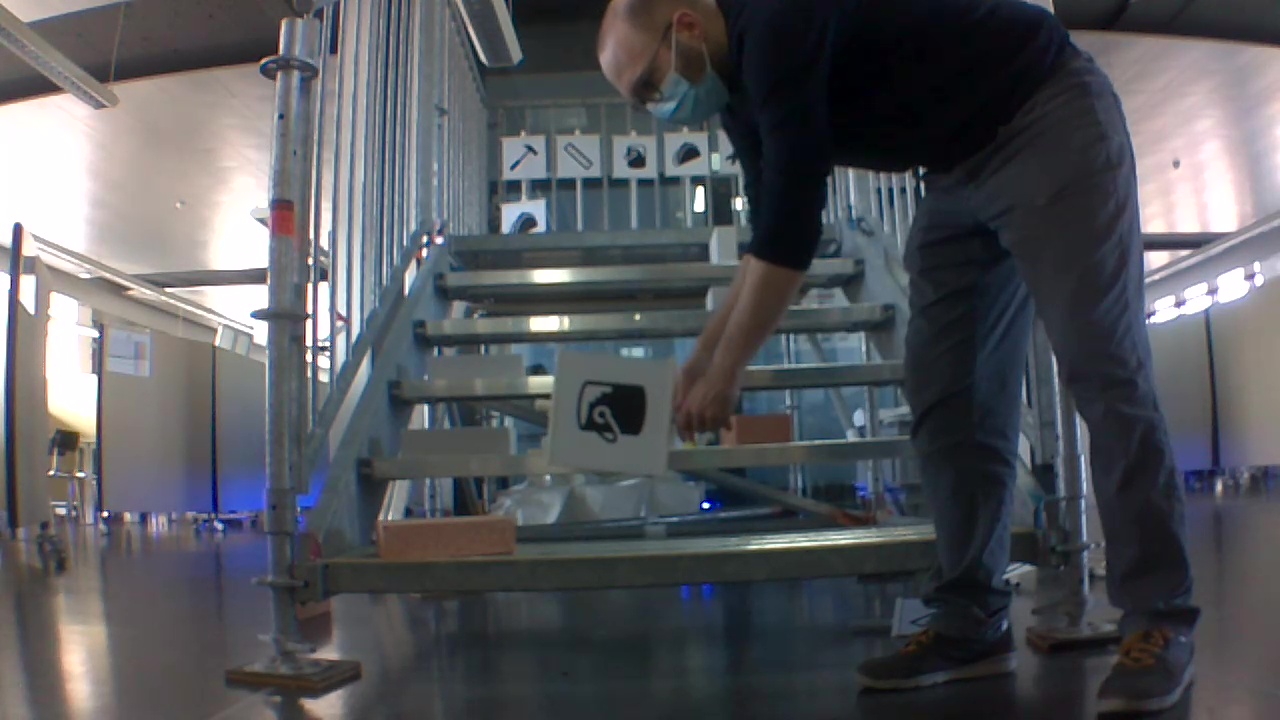brick: (380, 518, 515, 559), (402, 426, 517, 461), (426, 356, 524, 382), (720, 413, 791, 442), (710, 225, 736, 260), (703, 288, 725, 307)
bucket: (567, 376, 649, 449), (621, 142, 648, 169)
edge: (326, 532, 1039, 593)
hammer: (505, 138, 541, 175)
ruler: (562, 138, 594, 171)
taco: (668, 139, 702, 170), (506, 206, 537, 233)
